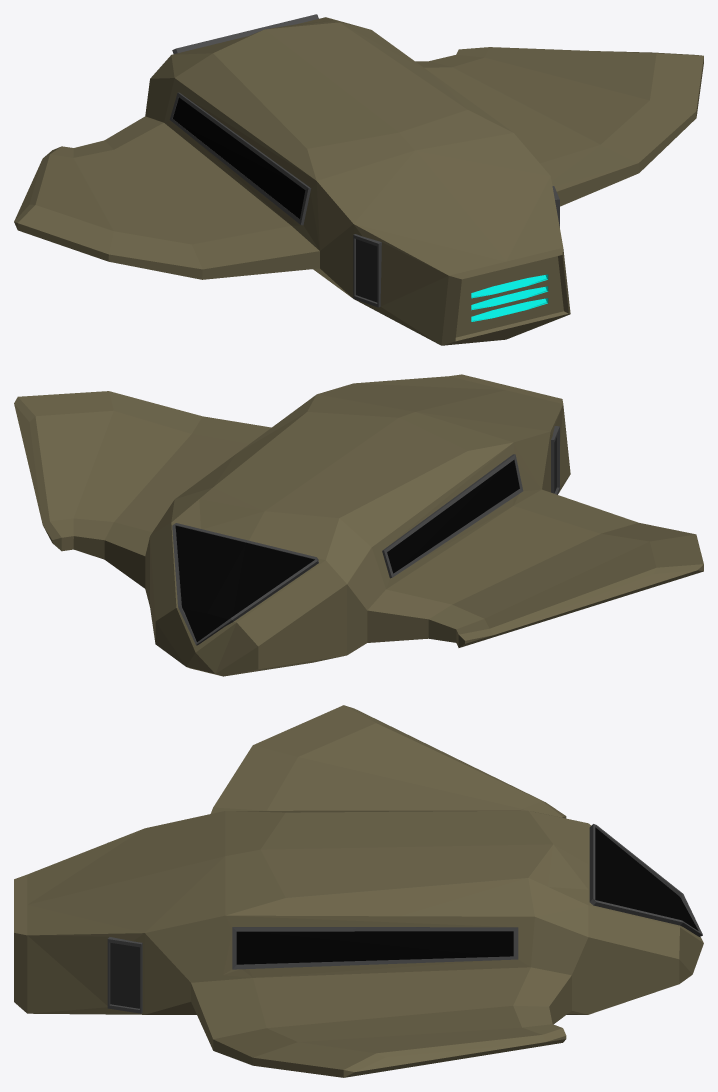
File: Ship.fbx
3 views of the same model, one above another, from view 1: azimuth 30°, elevation 25°; view 2: azimuth 150°, elevation 25°; view 3: azimuth 270°, elevation 25° (orthographic). The views are drawn at different scales.
Visible parts, largest first — view 1: half1, half2; view 2: half1, half2; view 3: half1, half2.
Part boxes in pixels (x1=…): half1: x1=14, y1=19, x2=570, y2=345; half2: x1=295, y1=14, x2=703, y2=206; half1: x1=198, y1=374, x2=703, y2=670; half2: x1=14, y1=391, x2=271, y2=676; half1: x1=14, y1=705, x2=690, y2=1014; half2: x1=147, y1=887, x2=703, y2=1077.
Bounding box in the file's own units: 47.93 × 8.92 × 38.3.
